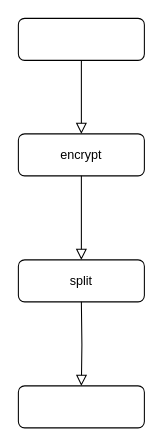
This 163x446 diagram has some shape labels left out. Each missing label, with the box of its shape:
create in-memory: (17, 17, 144, 60)
Repair Lamp: (17, 385, 144, 428)
